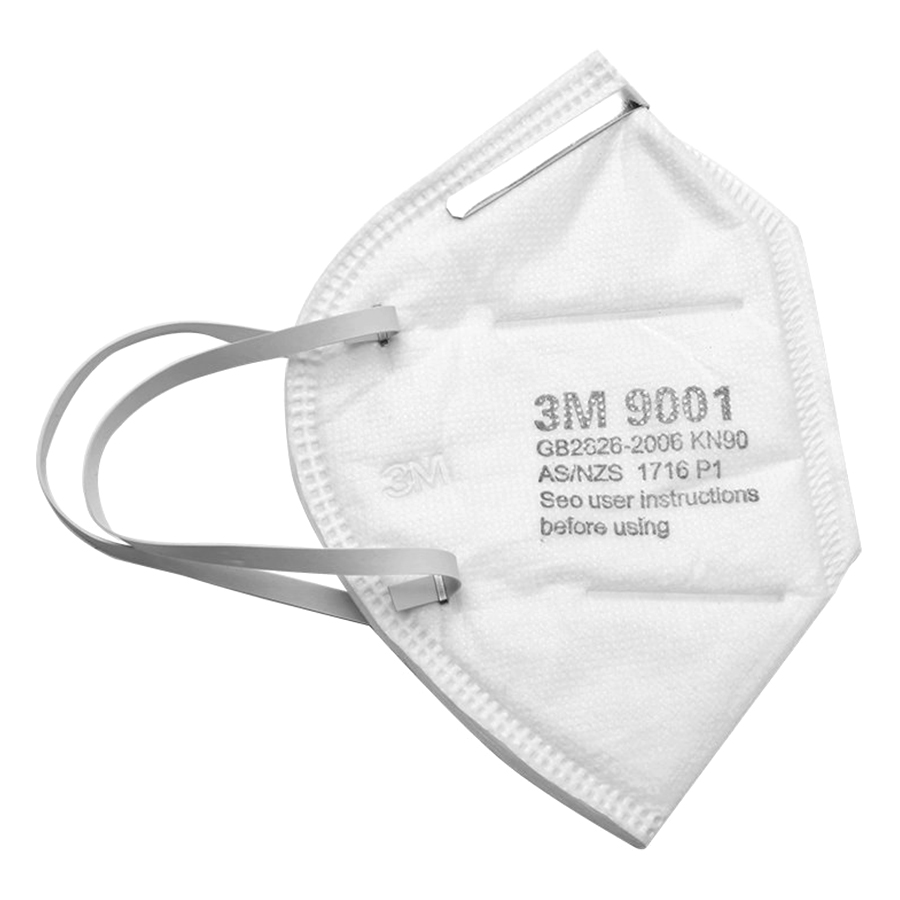3M: (371, 446, 464, 502), (524, 382, 613, 435)
